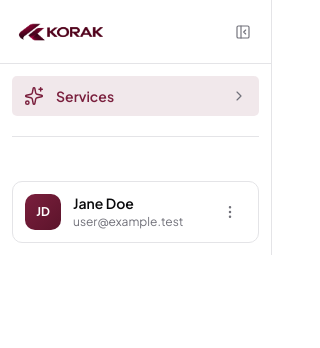
it: Sidebar Component (F5.1 & F5.2) › child item fixture renders inline sub-items when expanded and flyout when collapsed
Later steps or results of the test are not shown.
Step 1. Click the button "Services" → click(136, 96), box [12, 76, 259, 116]
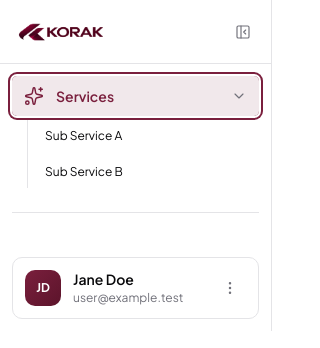
Result: the link "Sub Service A" is shown at [45, 128, 122, 143]
Result: the link "Sub Service B" is shown at [45, 164, 123, 179]
